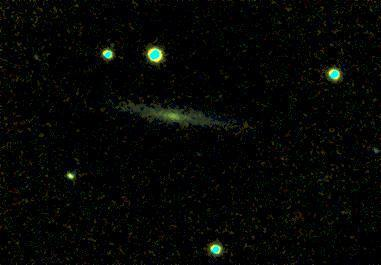star: (20, 42, 50, 72)
